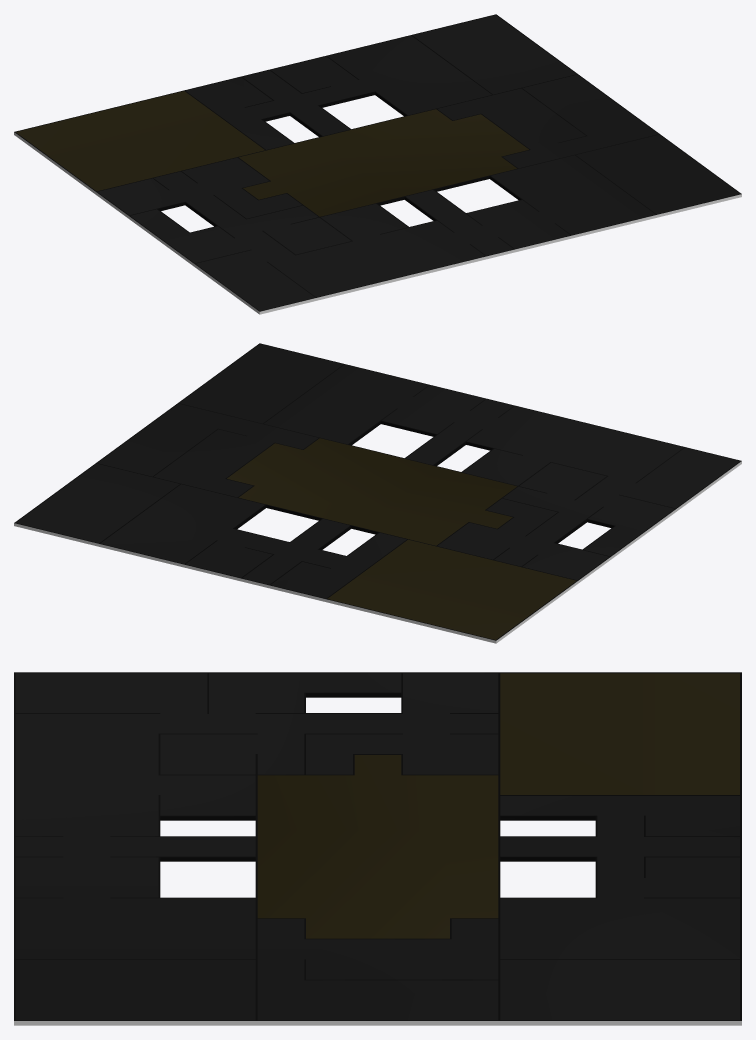
The model's file is Lobby Floor V2.fbx.
3 views of the same model, one above another, from view 1: azimuth 30°, elevation 25°; view 2: azimuth 150°, elevation 25°; view 3: azimuth 270°, elevation 25° (orthographic). The views are drawn at different scales.
Visible parts, largest first — view 1: Lobby Floor; view 2: Lobby Floor; view 3: Lobby Floor.
Part boxes in pixels (box(x1,y1,x2,y2)): Lobby Floor: box(14, 14, 741, 314); Lobby Floor: box(14, 343, 741, 643); Lobby Floor: box(14, 672, 741, 1025).
Bounding box in the file's own units: 84.97 × 74.98 × 0.5.
